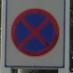No Parking: (12, 8, 61, 59)
